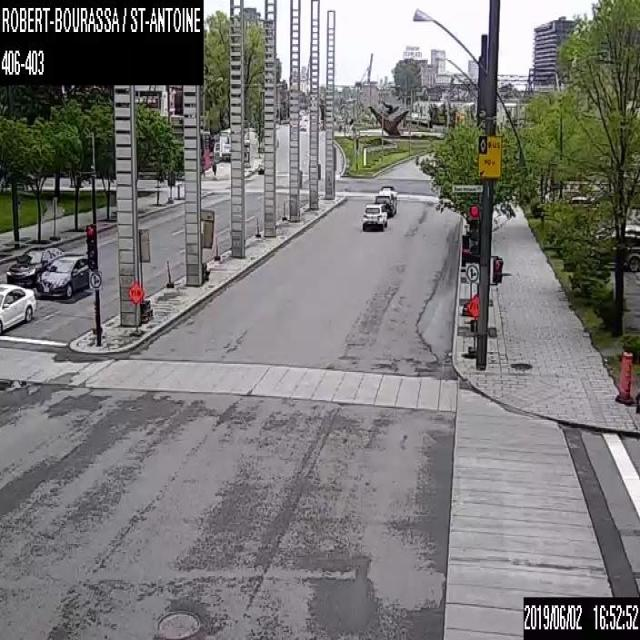construction: (138, 226, 151, 320), (201, 207, 215, 281), (465, 290, 480, 354), (127, 278, 145, 330), (616, 350, 632, 403), (49, 196, 59, 240)
pedestrian: (211, 159, 216, 177)
vehicle: (36, 252, 89, 298), (6, 244, 64, 285), (599, 222, 639, 272), (0, 281, 35, 333), (362, 202, 387, 229), (375, 190, 396, 215), (560, 186, 582, 202), (570, 195, 593, 209), (379, 184, 397, 201), (299, 122, 305, 129)
